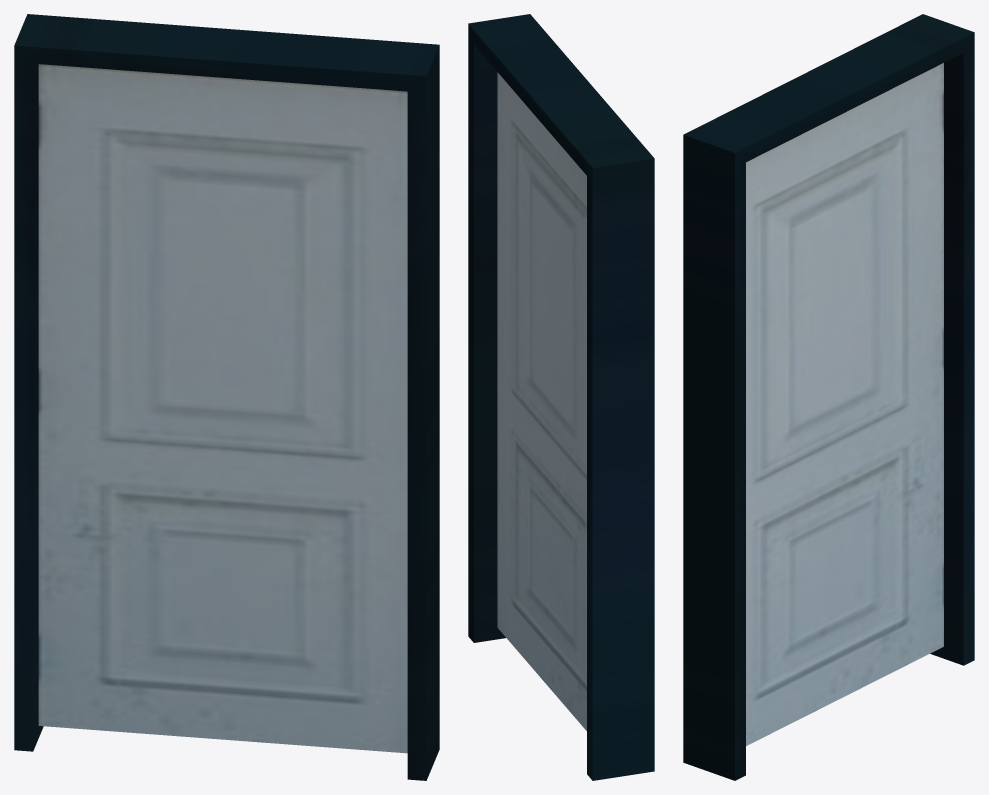
3 renders of one model, left to right at view 1: azimuth 30°, elevation 25°; view 2: azimuth 150°, elevation 25°; view 3: azimuth 270°, elevation 25°, orthographic. The views are drawn at different scales.
Parts seen in each view (by area): view 1: Plane024_door3_0, Plane023_door3_0; view 2: Plane023_door3_0, Plane024_door3_0; view 3: Plane024_door3_0, Plane023_door3_0.
Part boxes in pixels (bbox=[...]): Plane024_door3_0: bbox=[38, 64, 407, 753]; Plane023_door3_0: bbox=[14, 14, 439, 780]; Plane023_door3_0: bbox=[468, 14, 654, 780]; Plane024_door3_0: bbox=[497, 72, 586, 730]; Plane024_door3_0: bbox=[746, 63, 943, 745]; Plane023_door3_0: bbox=[683, 14, 974, 780].
Bounding box in the file's own units: 0.9743 × 2.05 × 0.8628.
Materials: 1 (1 with a texture image).
